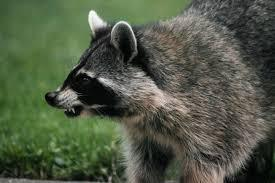raccoon: (29, 0, 275, 183)
